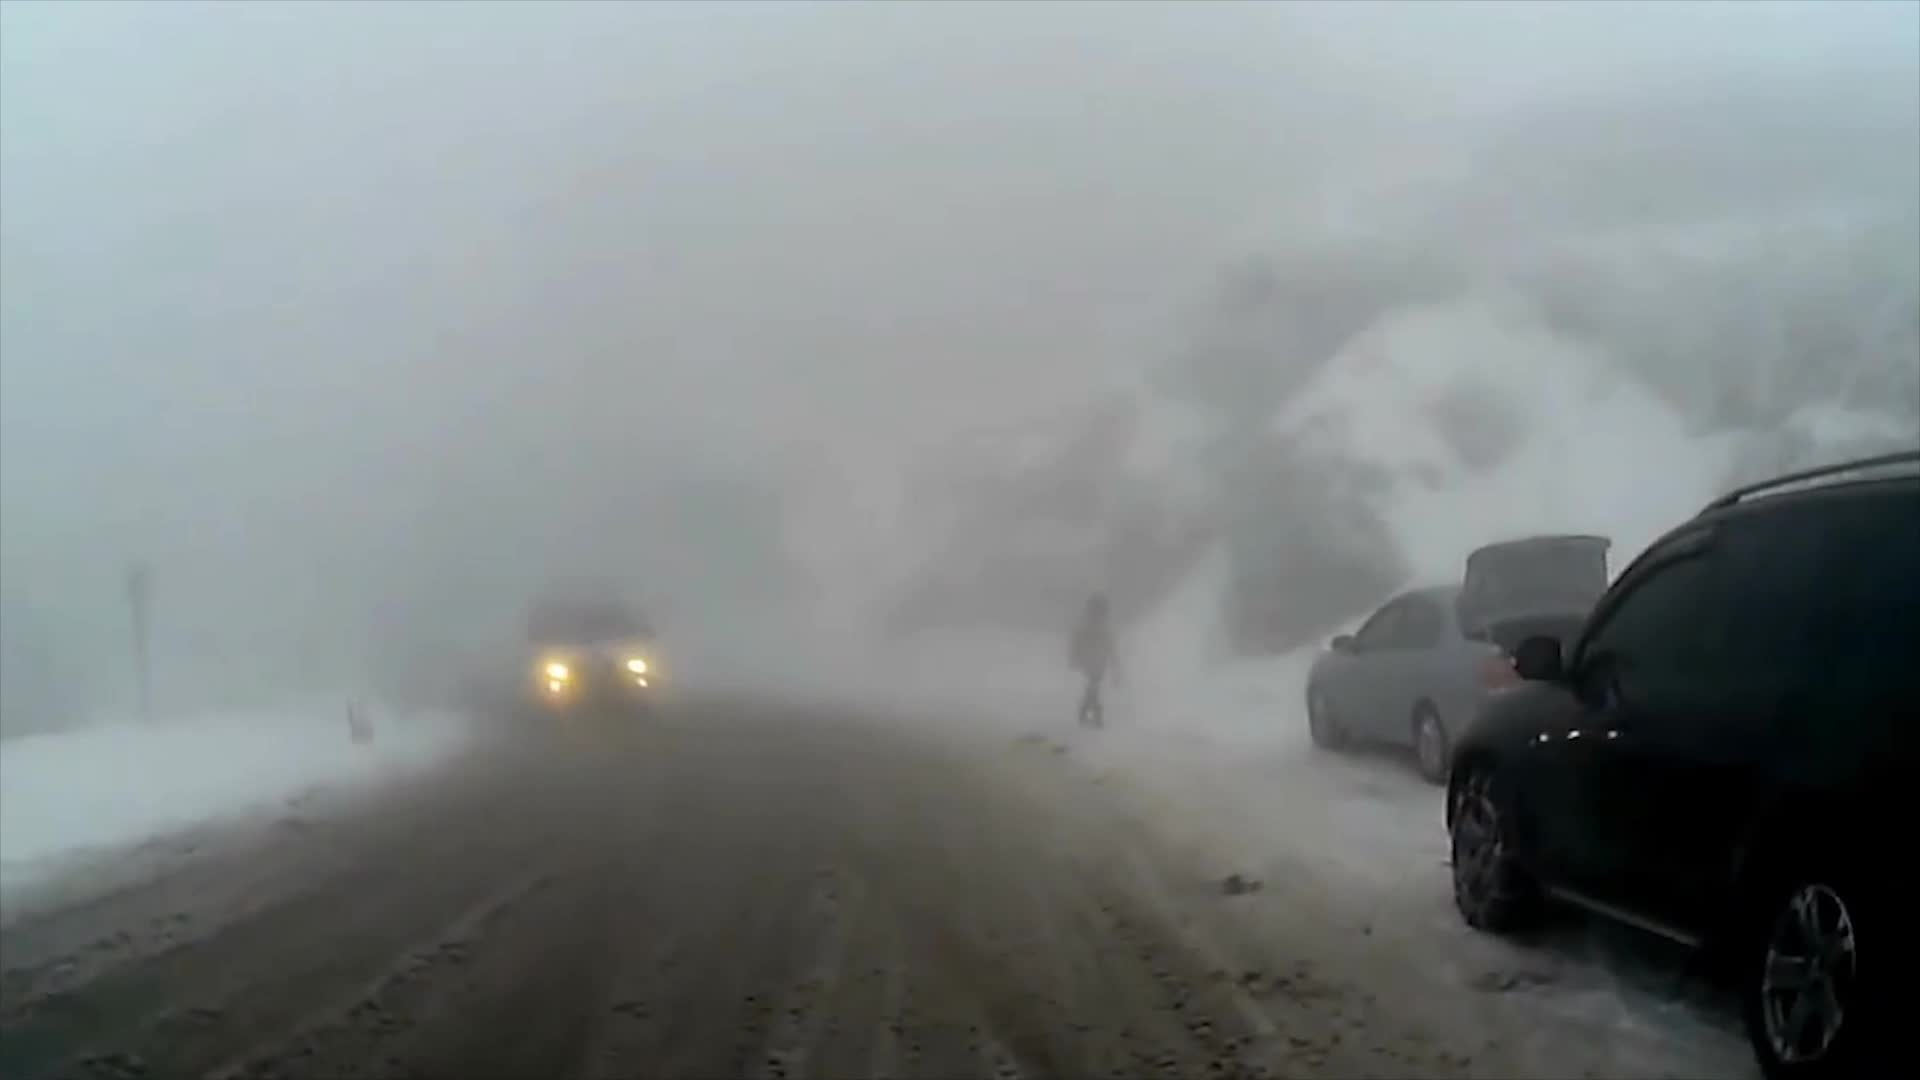pedestrian: (1075, 598, 1124, 727)
vehicle: (1443, 445, 1920, 1080), (1304, 530, 1673, 785), (521, 584, 662, 729)
